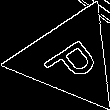P_NE: (35, 28, 103, 88)
